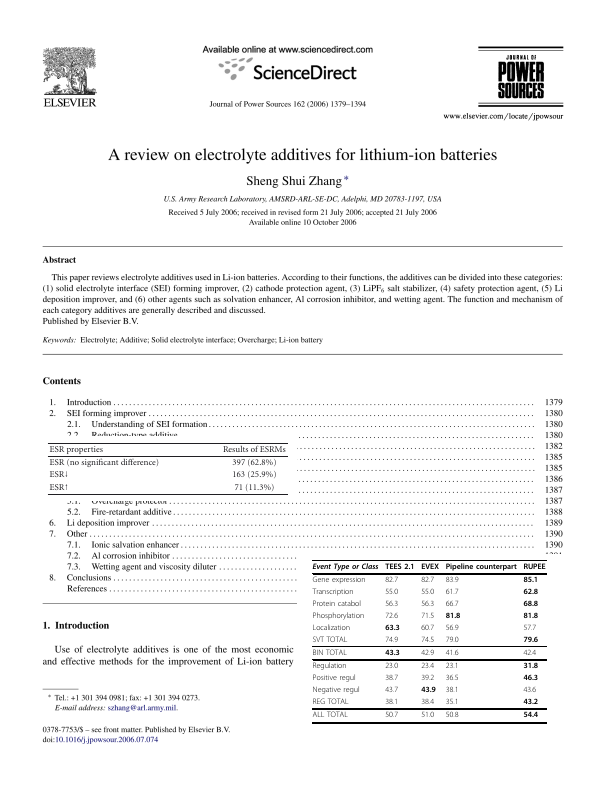borderless: (311, 559, 546, 722), (46, 441, 288, 494)
cell: (48, 458, 160, 468), (445, 563, 518, 572), (222, 445, 287, 455), (312, 563, 379, 572), (48, 445, 104, 455), (312, 576, 366, 586), (312, 612, 365, 622), (312, 600, 362, 610), (312, 686, 361, 696), (233, 482, 275, 493), (231, 458, 277, 468), (231, 470, 277, 480), (312, 674, 357, 684), (312, 588, 354, 598), (312, 624, 351, 634), (312, 698, 349, 708), (312, 649, 348, 659), (312, 662, 348, 672), (312, 712, 349, 721), (312, 636, 348, 645), (384, 563, 415, 572), (48, 482, 70, 493), (522, 563, 547, 572), (48, 470, 70, 480), (420, 563, 440, 572), (522, 662, 539, 672), (522, 674, 539, 684), (420, 686, 437, 696), (522, 698, 539, 708), (522, 576, 539, 585), (522, 588, 539, 597), (522, 600, 539, 609), (522, 612, 539, 621), (384, 624, 401, 633), (522, 636, 539, 645), (384, 649, 401, 658), (522, 712, 539, 721), (384, 576, 399, 586), (420, 576, 435, 586), (384, 588, 399, 598), (420, 588, 435, 598), (384, 600, 399, 610), (420, 600, 435, 610), (384, 612, 399, 622), (420, 612, 435, 622), (420, 624, 435, 634), (522, 624, 537, 634), (420, 649, 435, 659), (522, 649, 537, 659), (384, 662, 399, 672), (420, 662, 435, 672), (384, 674, 399, 684), (420, 674, 435, 684), (384, 686, 399, 696), (522, 686, 537, 696), (384, 698, 399, 708), (420, 698, 435, 708), (445, 612, 461, 621), (445, 576, 459, 586), (445, 588, 459, 598), (445, 600, 459, 610), (445, 624, 459, 634), (445, 649, 459, 659), (445, 662, 459, 672), (445, 674, 459, 684), (445, 686, 459, 696), (445, 698, 459, 708), (384, 636, 399, 645), (420, 636, 435, 645), (384, 712, 399, 721), (420, 712, 435, 721), (445, 636, 459, 645), (445, 712, 459, 721)
